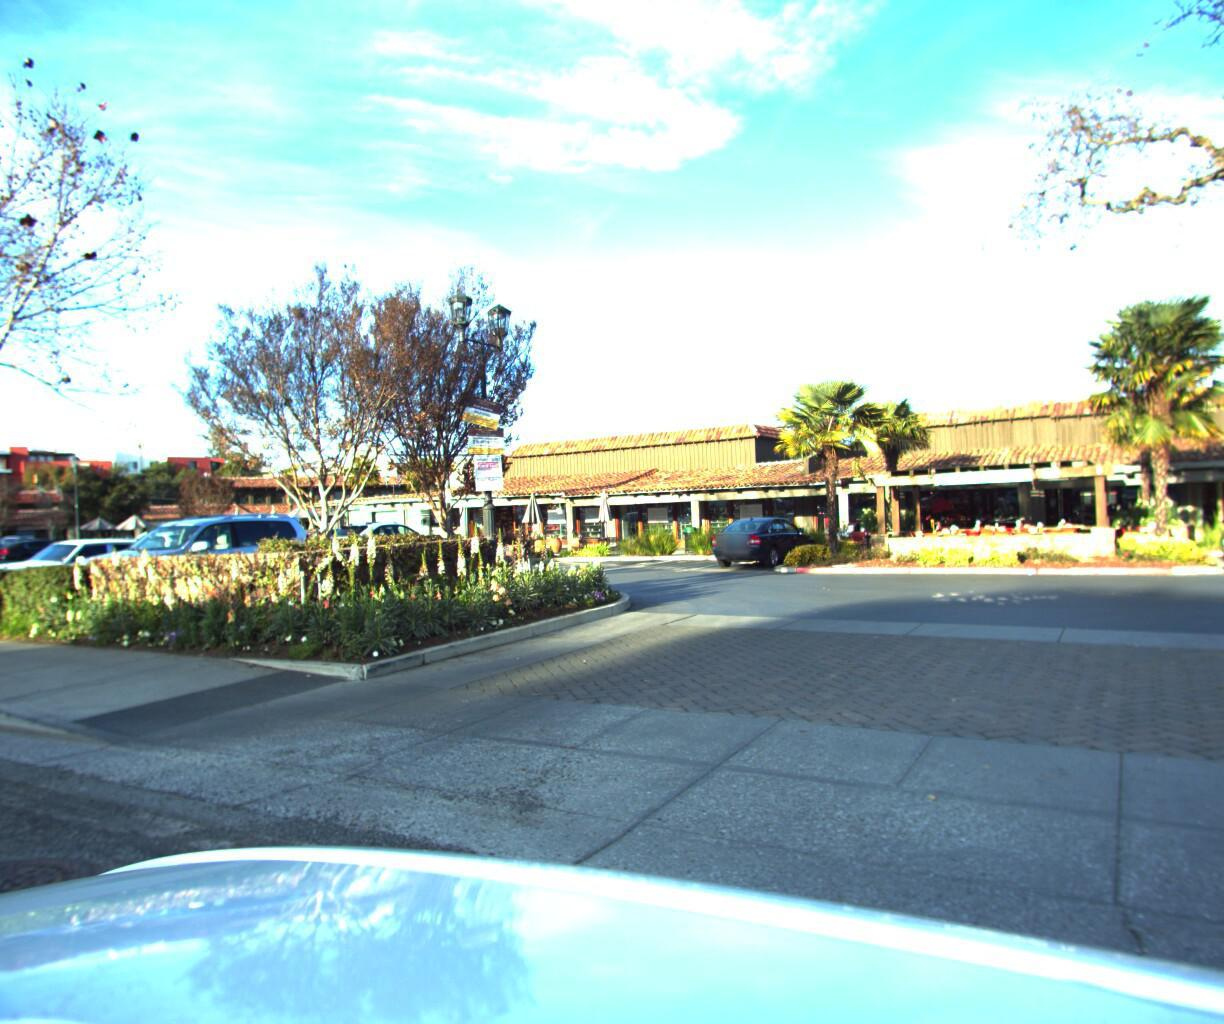car: (54, 503, 322, 603), (0, 525, 230, 620), (0, 533, 58, 614)
